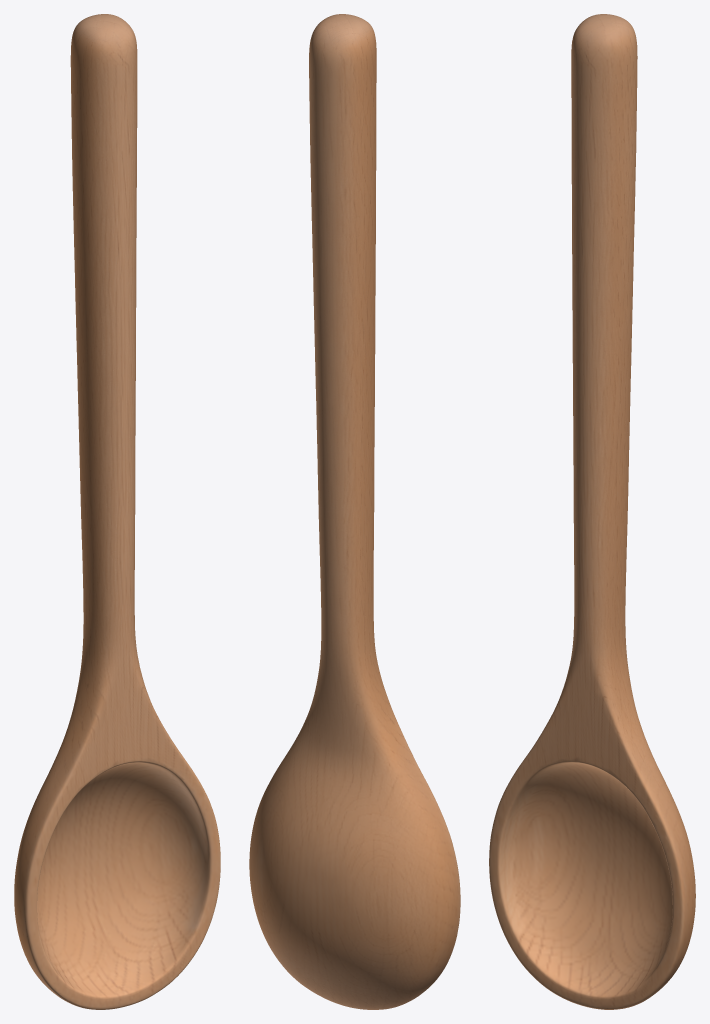
File: wooden_spoon.obj
3 renders of one model, left to right at view 1: azimuth 30°, elevation 25°; view 2: azimuth 150°, elevation 25°; view 3: azimuth 330°, elevation 25°, orthographic. The views are drawn at different scales.
Parts seen in each view (by area): view 1: model; view 2: model; view 3: model.
Boxes of the visible parts, x1,y1,x2,y2 form: model: [14, 14, 220, 1009]; model: [249, 14, 460, 1009]; model: [489, 14, 695, 1009].
Size of the model in its own units: 0.0633 by 0.3008 by 0.0236.
Materials: 1 (1 with a texture image).
